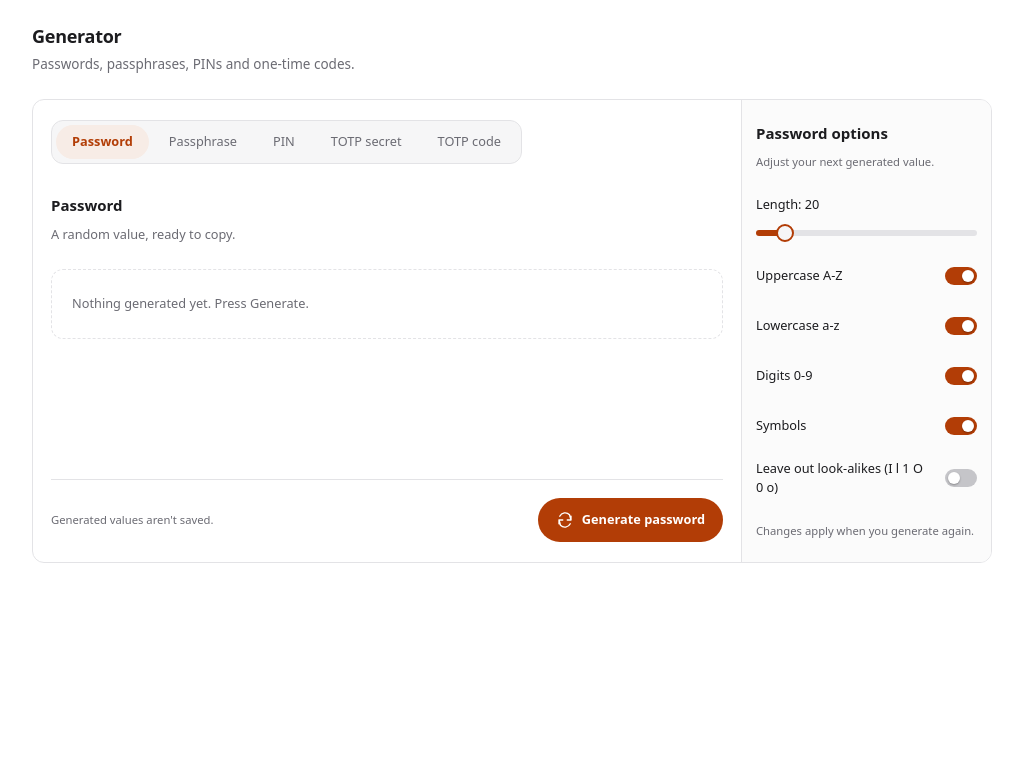
Test: GeneratorView › shows a TOTP code in groups and asks again when it expires
The width and height of the screenshot is (1024, 768).
Click the button "TOTP code": (469, 142) [422,125,517,159]
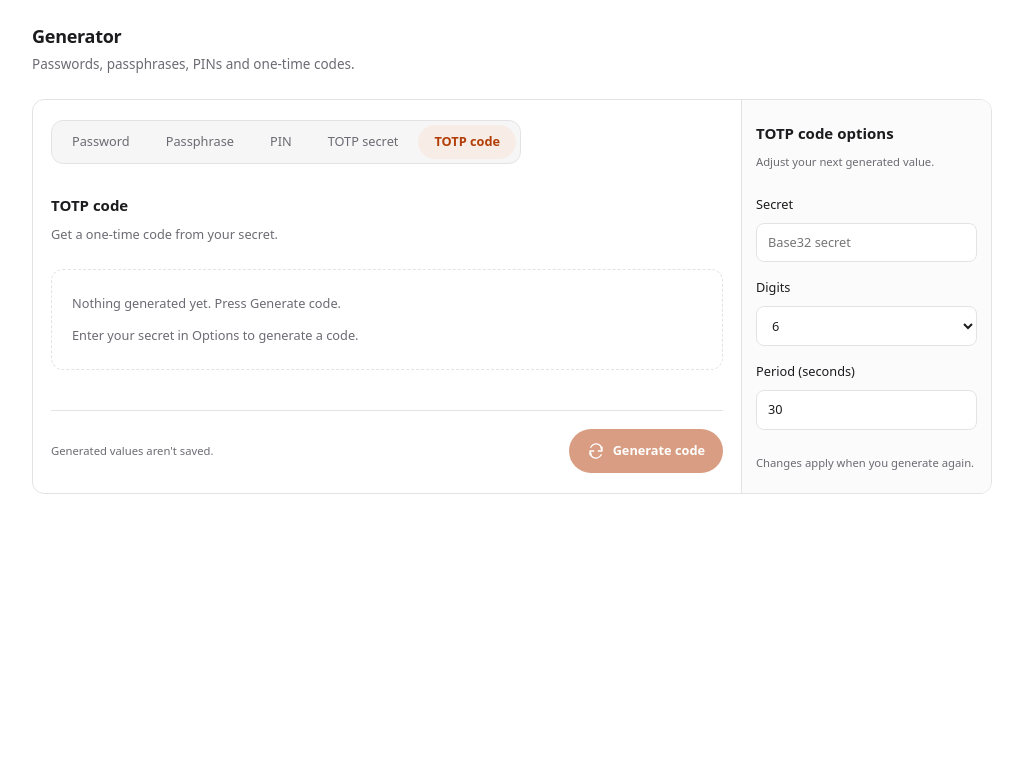
Now the button "Generate code" is disabled, box [569,429,723,473]
In the password field labelled "Secret": (866, 243) [756,223,977,262], type "JBSWY3DPEHPK3PXP"
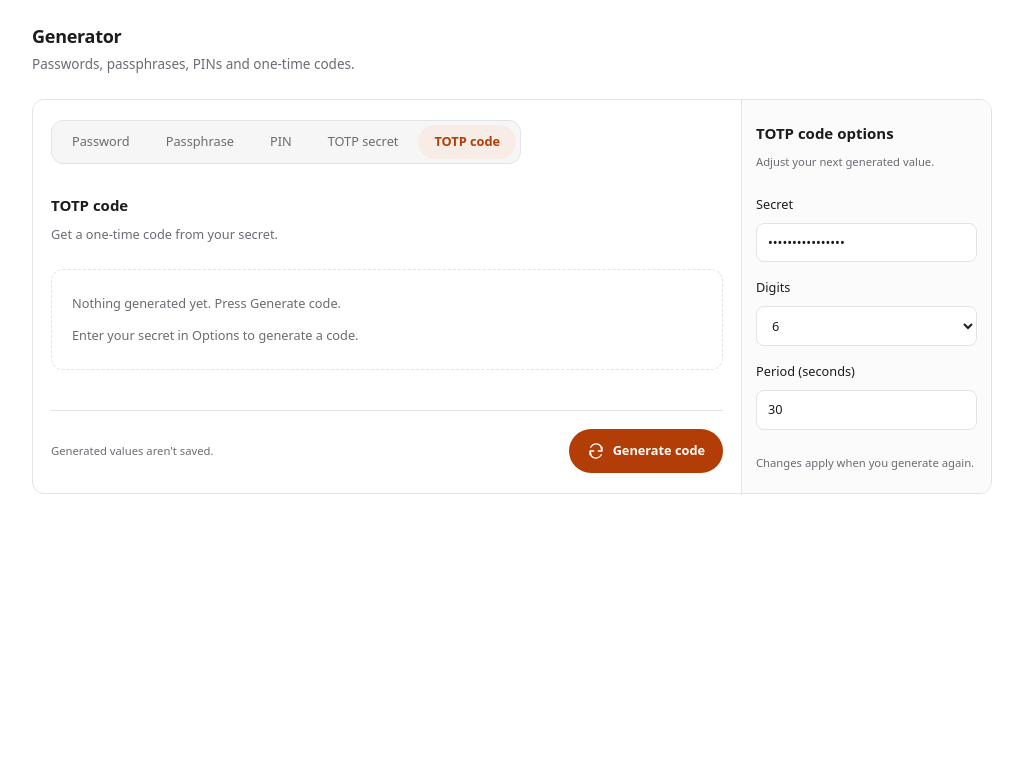
Submit the form, box [32,99,992,494]
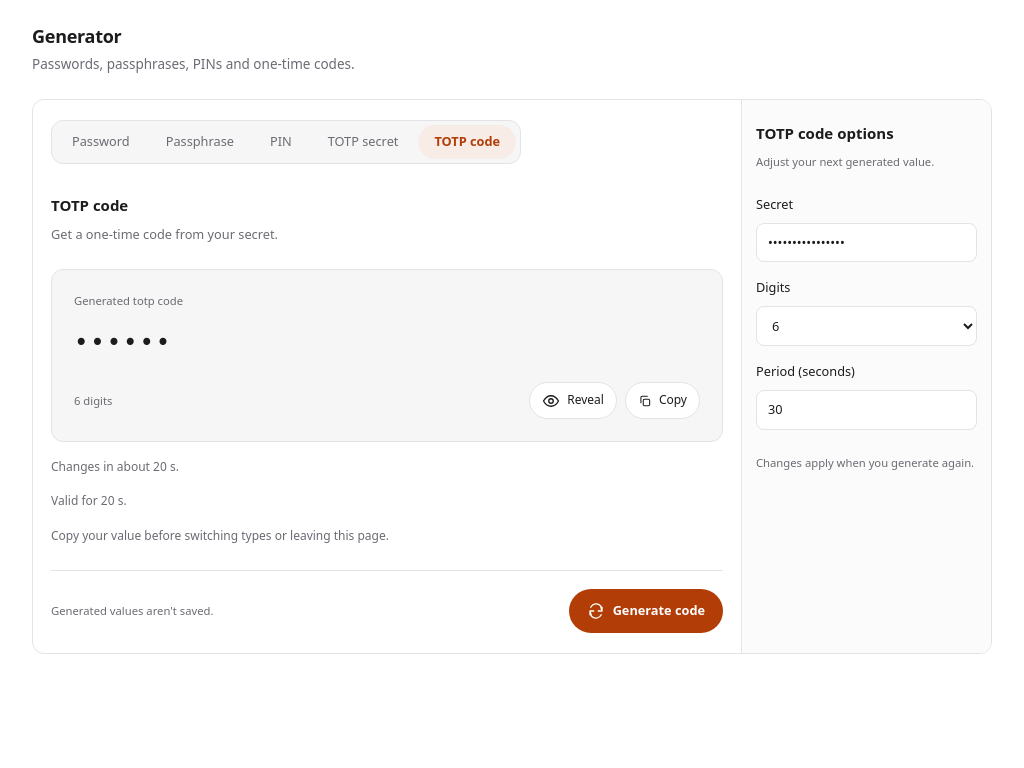
Now the text with test id "generated-value" reads "••••••", box [74,329,172,357]
Click the button "Reveal": (573, 400) [529,382,617,419]
Wait 20300 ms
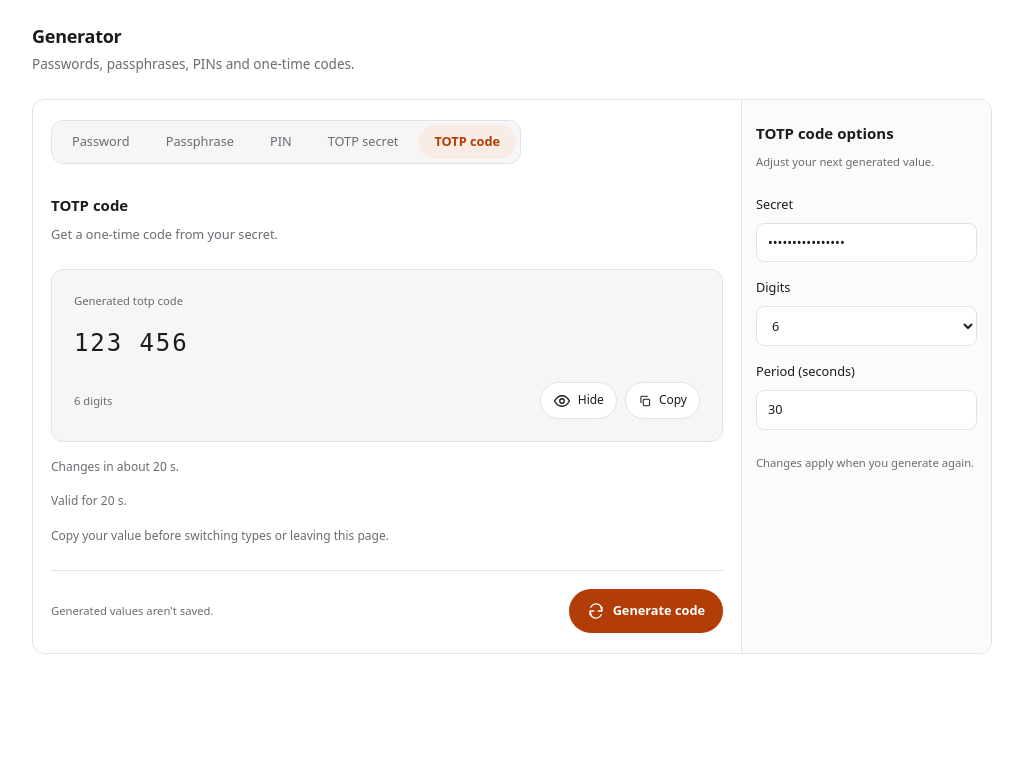
Now the text with test id "generated-value" reads "123 456", box [74,329,189,357]
